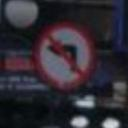NoVirarEsquerda: (31, 17, 98, 95)
